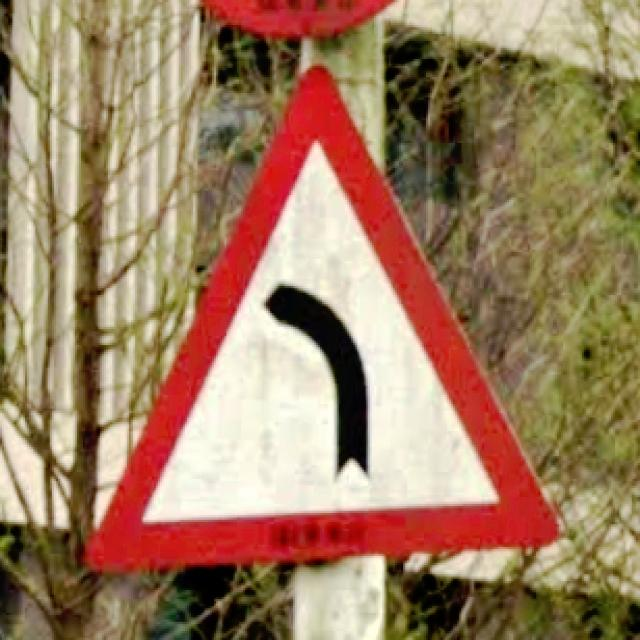leftbend: (85, 64, 563, 574)
